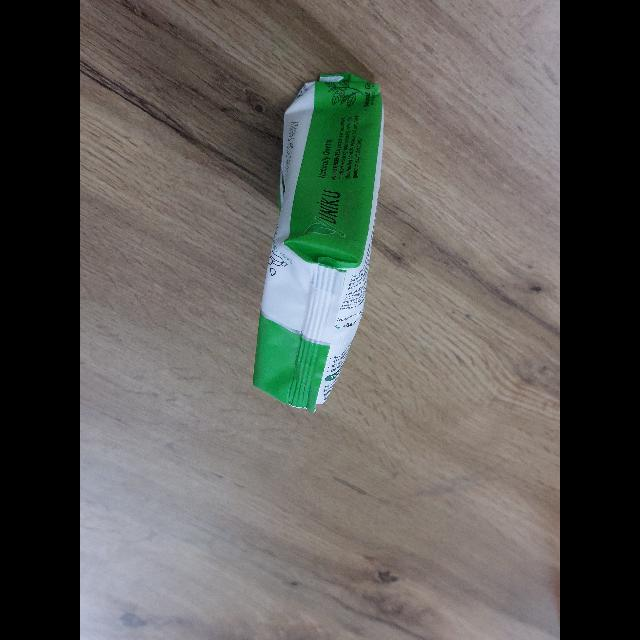khan_giay: (253, 75, 383, 411)
